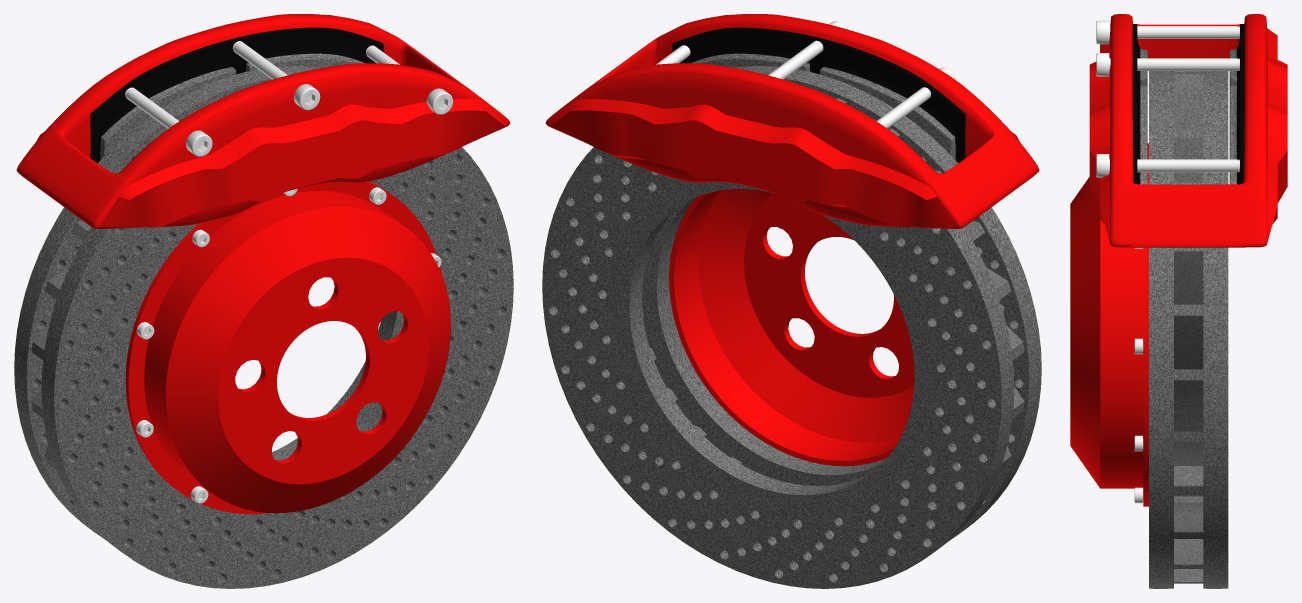
Rendered from ceramic-brakes.glb.
3 views of the same model, side by side, from view 1: azimuth 30°, elevation 25°; view 2: azimuth 150°, elevation 25°; view 3: azimuth 270°, elevation 25° (orthographic).
Visible parts, largest first — view 1: disc, caliper; view 2: disc, caliper; view 3: disc, caliper.
Part boxes in pixels (x1,y1,x2,y2): disc: (14, 66, 513, 588); caliper: (16, 14, 510, 228); disc: (542, 66, 1041, 588); caliper: (545, 14, 1039, 228); disc: (1070, 71, 1228, 588); caliper: (1089, 14, 1287, 247).
Bounding box in the file's own units: 0.5273 × 0.5659 × 0.2169.
Materials: 6 (2 with a texture image).
